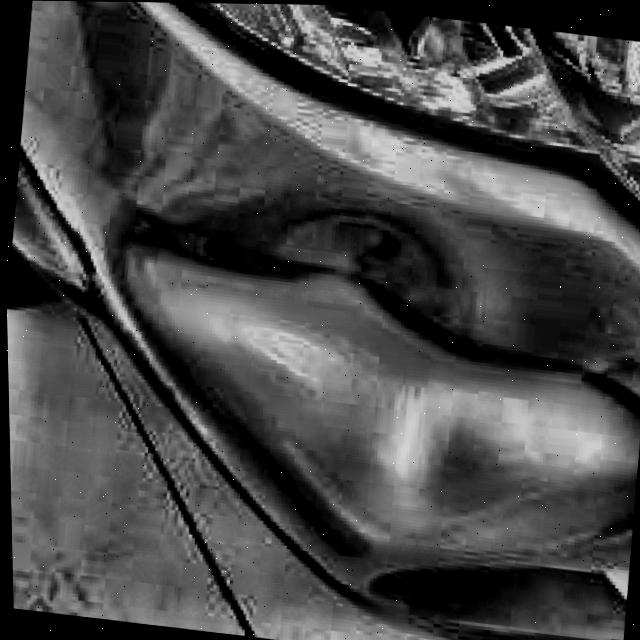bumper_dent: (90, 140, 640, 573)
